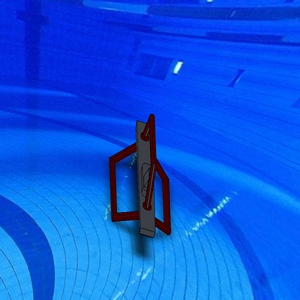submarine: (102, 111, 181, 239)
